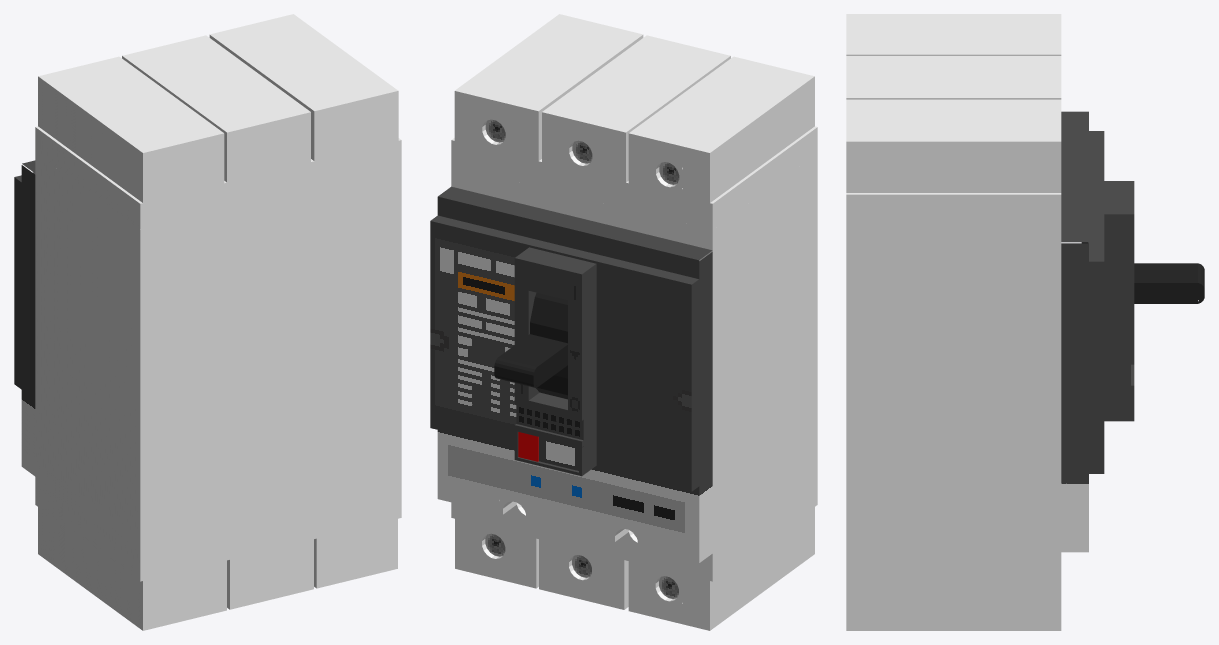
The model's file is molded_case_circuit_breaker.glb.
3 views of the same model, side by side, from view 1: azimuth 30°, elevation 25°; view 2: azimuth 150°, elevation 25°; view 3: azimuth 270°, elevation 25° (orthographic). The views are drawn at different scales.
Visible parts, largest first — view 1: cube_0, cube_142, cube_140, cube_152, cube_63, cube_141, cube_214, cube_62, cube_61, cube_1, cube_65, cube_2 (+4 smaller); view 2: cube_2, cube_0, cube_1, cube_142, cube_141, cube_140, cube_152, cube_217, cube_63, cube_143, cube_149, cube_214 (+31 smaller); view 3: cube_0, cube_140, cube_1, cube_62, cube_152, cube_142, cube_141, cube_2, cube_65, cube_216, cube_214, cube_151 (+15 smaller).
Part boxes in pixels (bbox=[...]): cube_0: bbox=[35, 153, 401, 537]; cube_142: bbox=[54, 68, 224, 226]; cube_140: bbox=[225, 26, 398, 187]; cube_152: bbox=[138, 47, 310, 208]; cube_63: bbox=[54, 519, 226, 630]; cube_141: bbox=[35, 126, 401, 229]; cube_214: bbox=[46, 469, 401, 563]; cube_62: bbox=[314, 493, 397, 588]; cube_61: bbox=[227, 521, 313, 609]; cube_1: bbox=[21, 160, 35, 459]; cube_65: bbox=[51, 499, 401, 581]; cube_2: bbox=[14, 172, 35, 389]; cube_2: bbox=[430, 215, 699, 491]; cube_0: bbox=[451, 153, 817, 537]; cube_1: bbox=[437, 186, 712, 546]; cube_142: bbox=[645, 56, 814, 190]; cube_141: bbox=[451, 126, 817, 229]; cube_140: bbox=[471, 14, 643, 102]; cube_152: bbox=[558, 35, 730, 123]; cube_217: bbox=[568, 260, 596, 420]; cube_63: bbox=[726, 507, 814, 618]; cube_143: bbox=[683, 134, 725, 225]; cube_149: bbox=[507, 92, 554, 186]; cube_214: bbox=[724, 461, 817, 555]; cube_0: bbox=[846, 221, 1061, 536]; cube_140: bbox=[846, 99, 1028, 192]; cube_1: bbox=[1061, 111, 1088, 535]; cube_62: bbox=[846, 581, 1028, 630]; cube_152: bbox=[846, 56, 1028, 99]; cube_142: bbox=[846, 14, 1028, 55]; cube_141: bbox=[846, 193, 1061, 221]; cube_2: bbox=[1088, 131, 1104, 473]; cube_65: bbox=[846, 555, 1028, 581]; cube_216: bbox=[1104, 207, 1134, 364]; cube_214: bbox=[846, 536, 1031, 554]; cube_151: bbox=[1028, 128, 1061, 192].
Size of the model in its own units: 0.2917 by 0.5094 by 0.338.
Materials: 1 (1 with a texture image).
